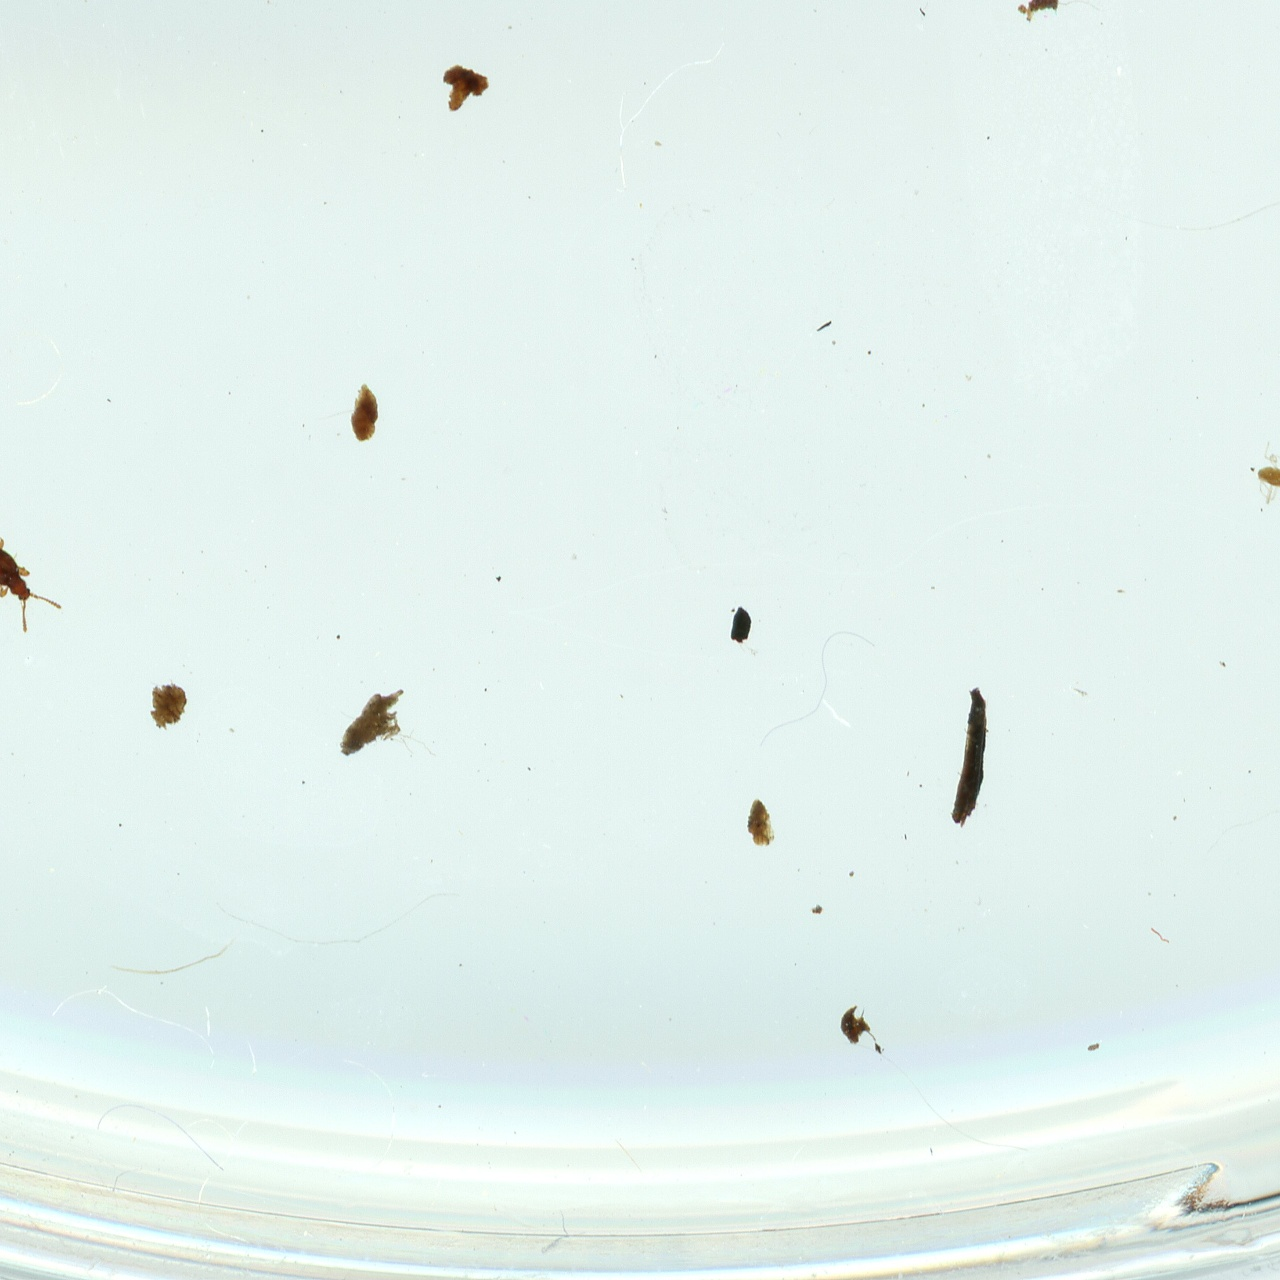arthropod: (0, 505, 71, 642), (1249, 438, 1280, 517)
